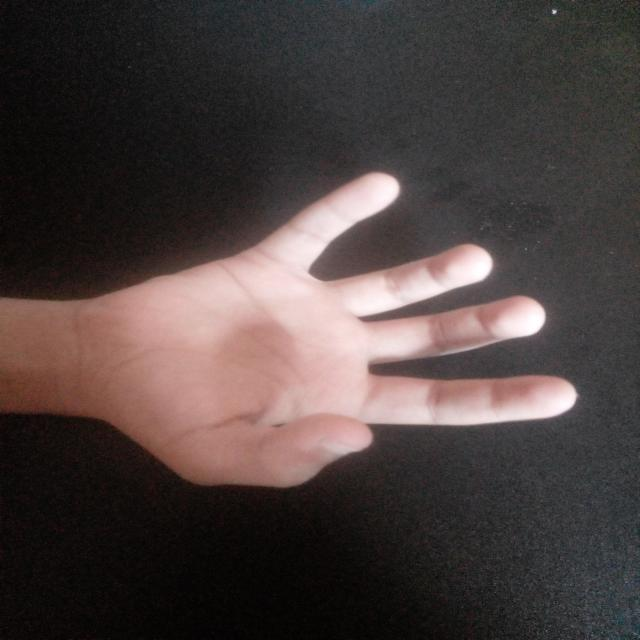Open Hand: (79, 169, 580, 488)
